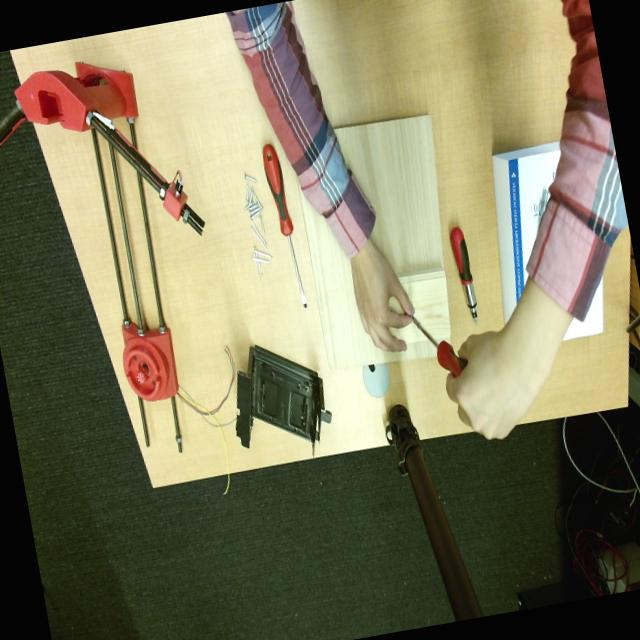screwdriver: (262, 144, 307, 307), (411, 315, 466, 377), (450, 226, 477, 323)
